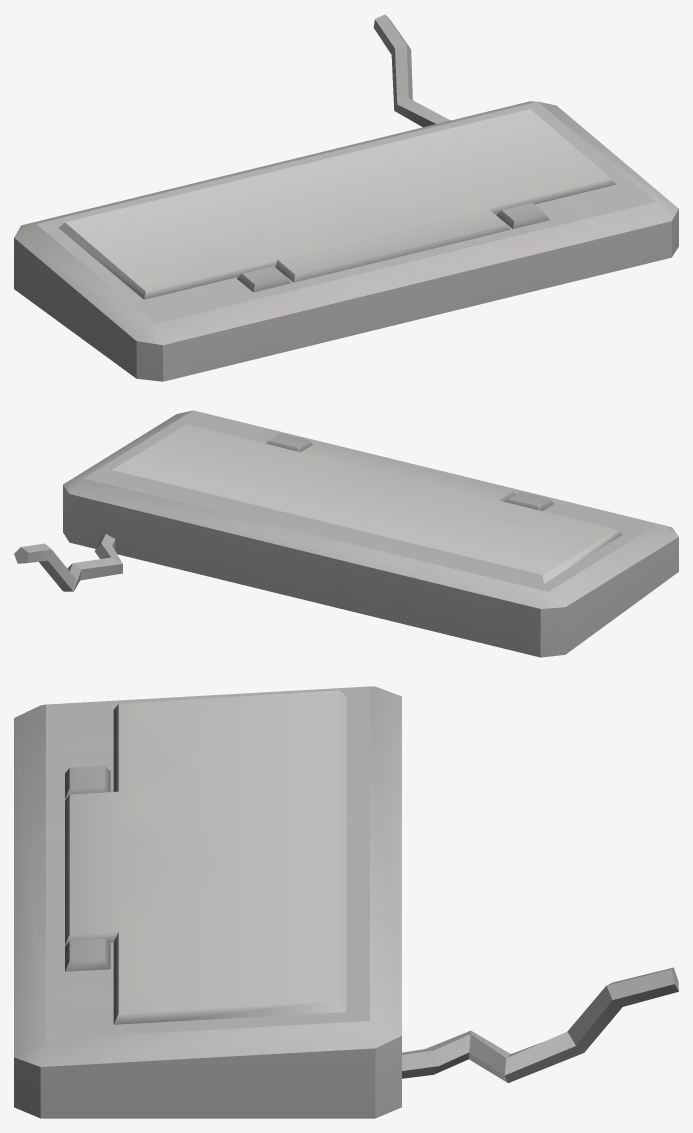
Rendered from Retro_AllInOneComputer_Keyboard.fbx.
3 views of the same model, one above another, from view 1: azimuth 30°, elevation 25°; view 2: azimuth 150°, elevation 25°; view 3: azimuth 270°, elevation 25° (orthographic). The views are drawn at different scales.
Parts seen in each view (by area): view 1: Retro_AllInOneComputer_Keyboard; view 2: Retro_AllInOneComputer_Keyboard; view 3: Retro_AllInOneComputer_Keyboard.
Boxes of the visible parts, x1=… form: Retro_AllInOneComputer_Keyboard: x1=14, y1=14, x2=678, y2=381; Retro_AllInOneComputer_Keyboard: x1=14, y1=410, x2=678, y2=657; Retro_AllInOneComputer_Keyboard: x1=14, y1=686, x2=678, y2=1118.
Bounding box in the file's own units: 41.52 × 5.9 × 32.26.
